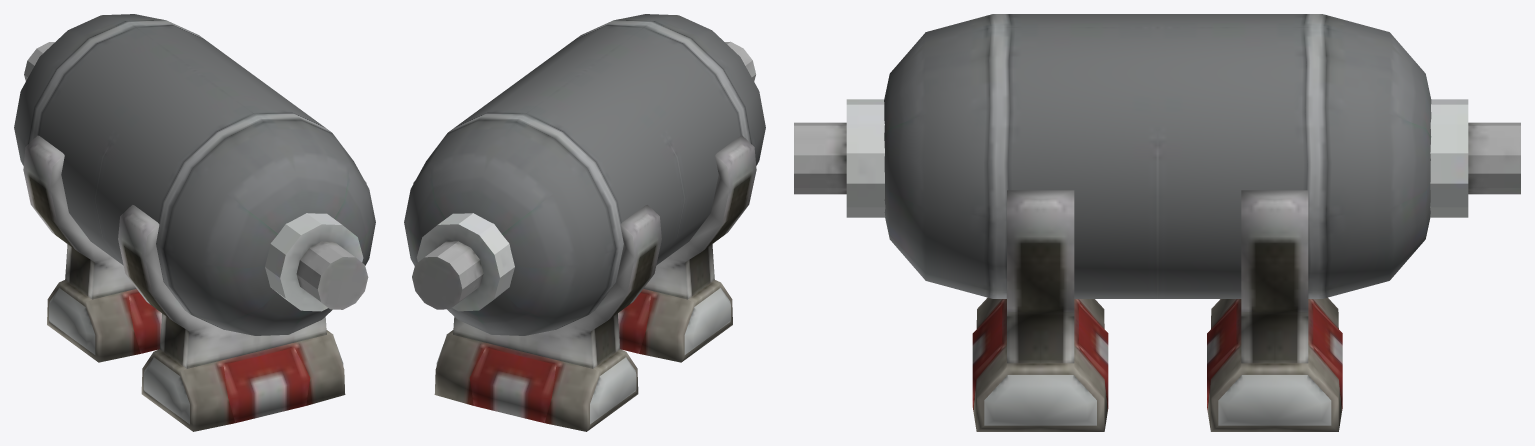
Rendered from Part - Extras 03-BK2v8H1m.glb.
3 renders of one model, left to right at view 1: azimuth 30°, elevation 25°; view 2: azimuth 150°, elevation 25°; view 3: azimuth 270°, elevation 25°, orthographic. The views are drawn at different scales.
Visible parts, largest first — view 1: Extras_03, Extras_03_pad, Extras_03_pad2, Extras_03_end; view 2: Extras_03, Extras_03_pad2, Extras_03_pad, Extras_03_end (1), Extras_03_end; view 3: Extras_03, Extras_03_pad, Extras_03_pad2, Extras_03_end, Extras_03_end (1).
Boxes of the visible parts, x1=… form: Extras_03: x1=14, y1=14, x2=375, y2=335; Extras_03_pad: x1=118, y1=181, x2=366, y2=431; Extras_03_pad2: x1=23, y1=135, x2=161, y2=362; Extras_03_end: x1=265, y1=213, x2=368, y2=311; Extras_03: x1=404, y1=14, x2=765, y2=335; Extras_03_pad2: x1=413, y1=181, x2=661, y2=431; Extras_03_pad: x1=618, y1=135, x2=756, y2=362; Extras_03_end (1): x1=412, y1=213, x2=514, y2=311; Extras_03_end: x1=725, y1=41, x2=755, y2=81; Extras_03: x1=884, y1=14, x2=1431, y2=298; Extras_03_pad: x1=972, y1=190, x2=1108, y2=431; Extras_03_pad2: x1=1207, y1=190, x2=1342, y2=431; Extras_03_end: x1=794, y1=99, x2=885, y2=217; Extras_03_end (1): x1=1430, y1=99, x2=1520, y2=217.
Size of the model in its own units: 1.28 by 1.58 by 2.9.
2 materials, 2 textured.
